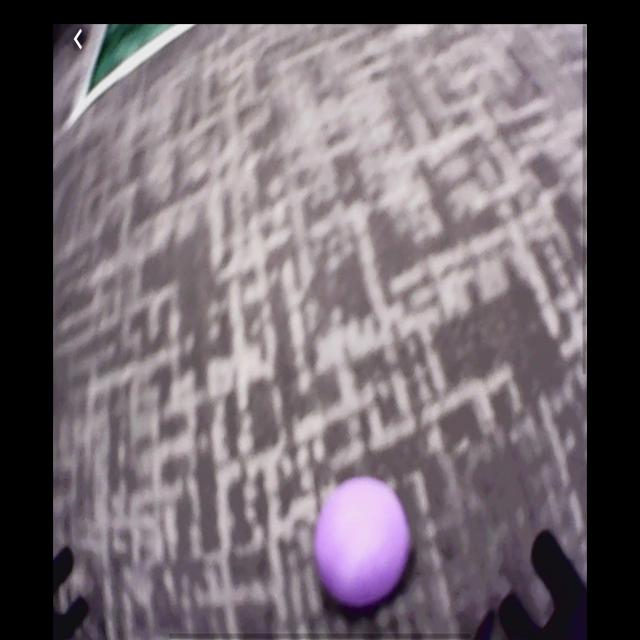ball: (315, 475, 414, 612)
